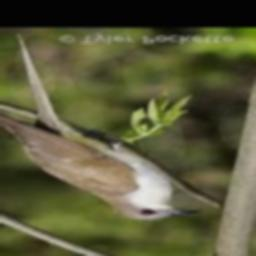Cuckoo: (0, 110, 202, 220)
